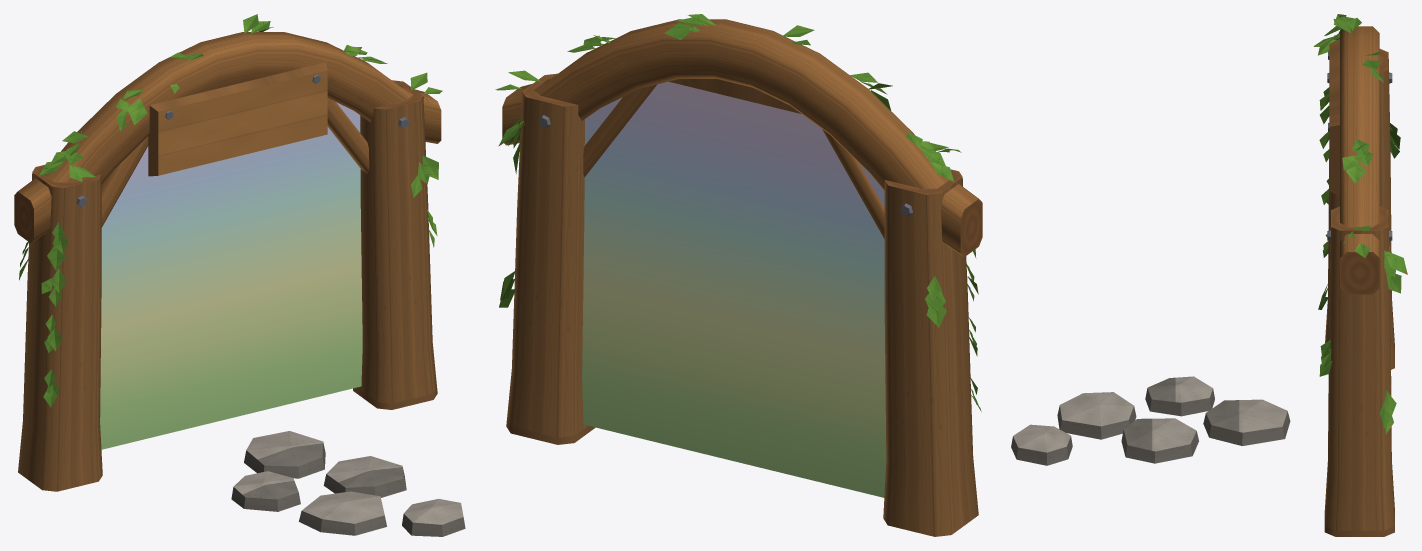
File: Entrance_Arch.glb
3 renders of one model, left to right at view 1: azimuth 30°, elevation 25°; view 2: azimuth 150°, elevation 25°; view 3: azimuth 270°, elevation 25°, orthographic. The views are drawn at different scales.
Visible parts, largest first — view 1: Entrance_Arch; view 2: Entrance_Arch; view 3: Entrance_Arch.
Boxes of the visible parts, x1,y1,x2,y2 form: Entrance_Arch: (14,14,465,536); Entrance_Arch: (495,14,982,536); Entrance_Arch: (1011,14,1407,536).
Bounding box in the file's own units: 6.42 × 5.86 × 5.21.
Materials: 1 (1 with a texture image).
